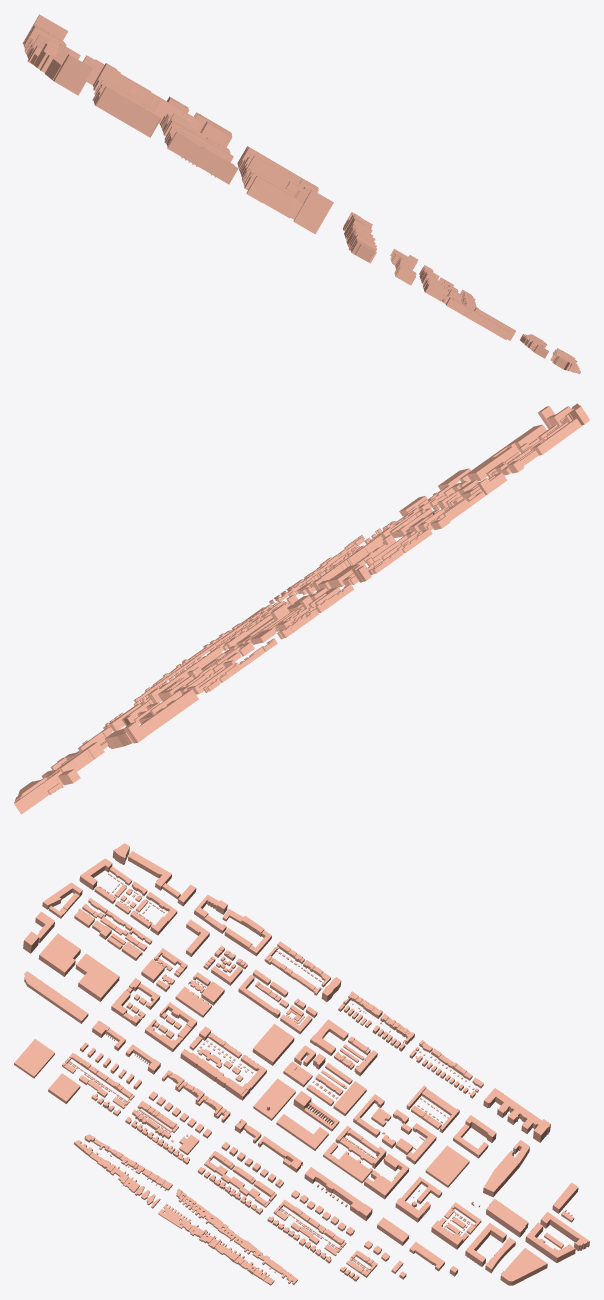
3 renders of one model, top to bottom at view 1: azimuth 30°, elevation 25°; view 2: azimuth 150°, elevation 25°; view 3: azimuth 270°, elevation 25°, orthographic. The views are drawn at different scales.
Size of the model in its own units: 859 by 720 by 1293.
